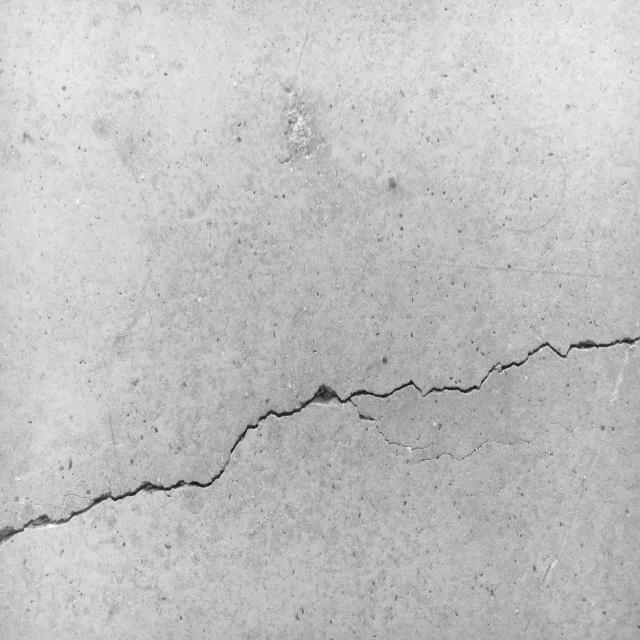SurfaceCrack: (1, 288, 640, 554)
